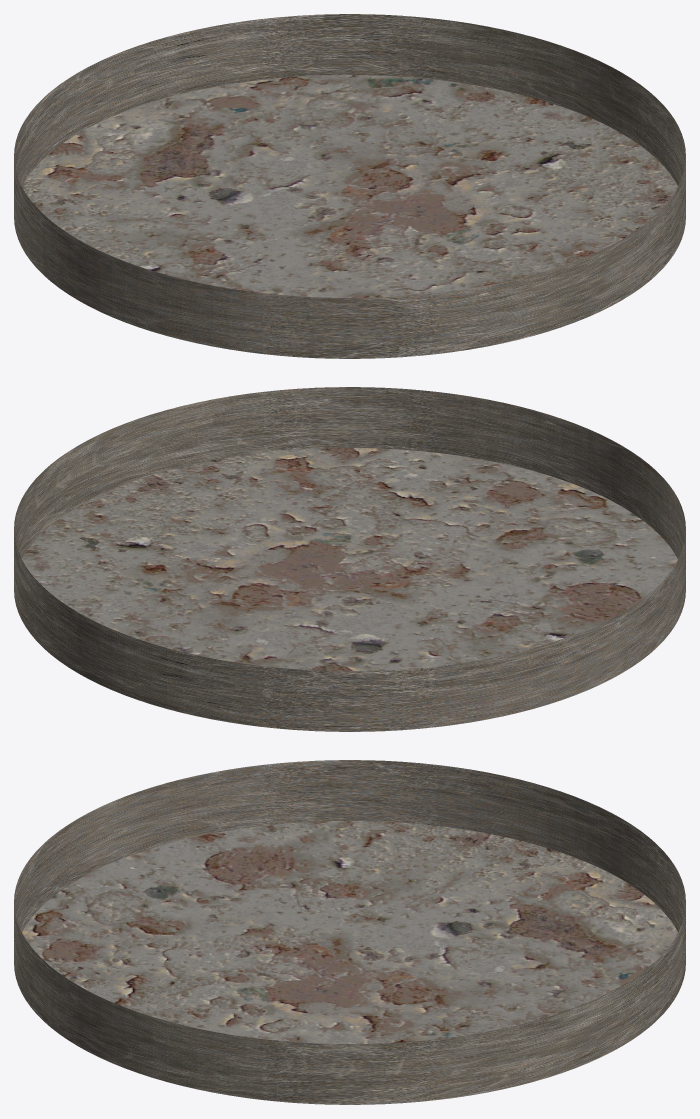
The model's file is pool_cylinder.obj.
3 renders of one model, top to bottom at view 1: azimuth 30°, elevation 25°; view 2: azimuth 150°, elevation 25°; view 3: azimuth 270°, elevation 25°, orthographic.
Visible parts, largest first — view 1: Cylinder; view 2: Cylinder; view 3: Cylinder.
Part boxes in pixels (<box>): Cylinder: <box>14,14,685,358</box>; Cylinder: <box>14,387,685,731</box>; Cylinder: <box>14,760,685,1104</box>.
Size of the model in its own units: 50 by 5 by 50.
